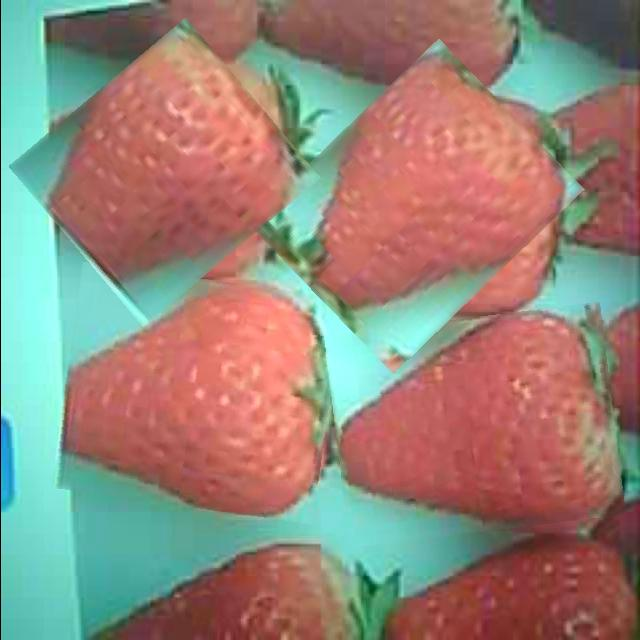strawberry: (264, 70, 566, 344), (28, 42, 300, 302), (57, 271, 335, 516), (329, 310, 619, 540)
